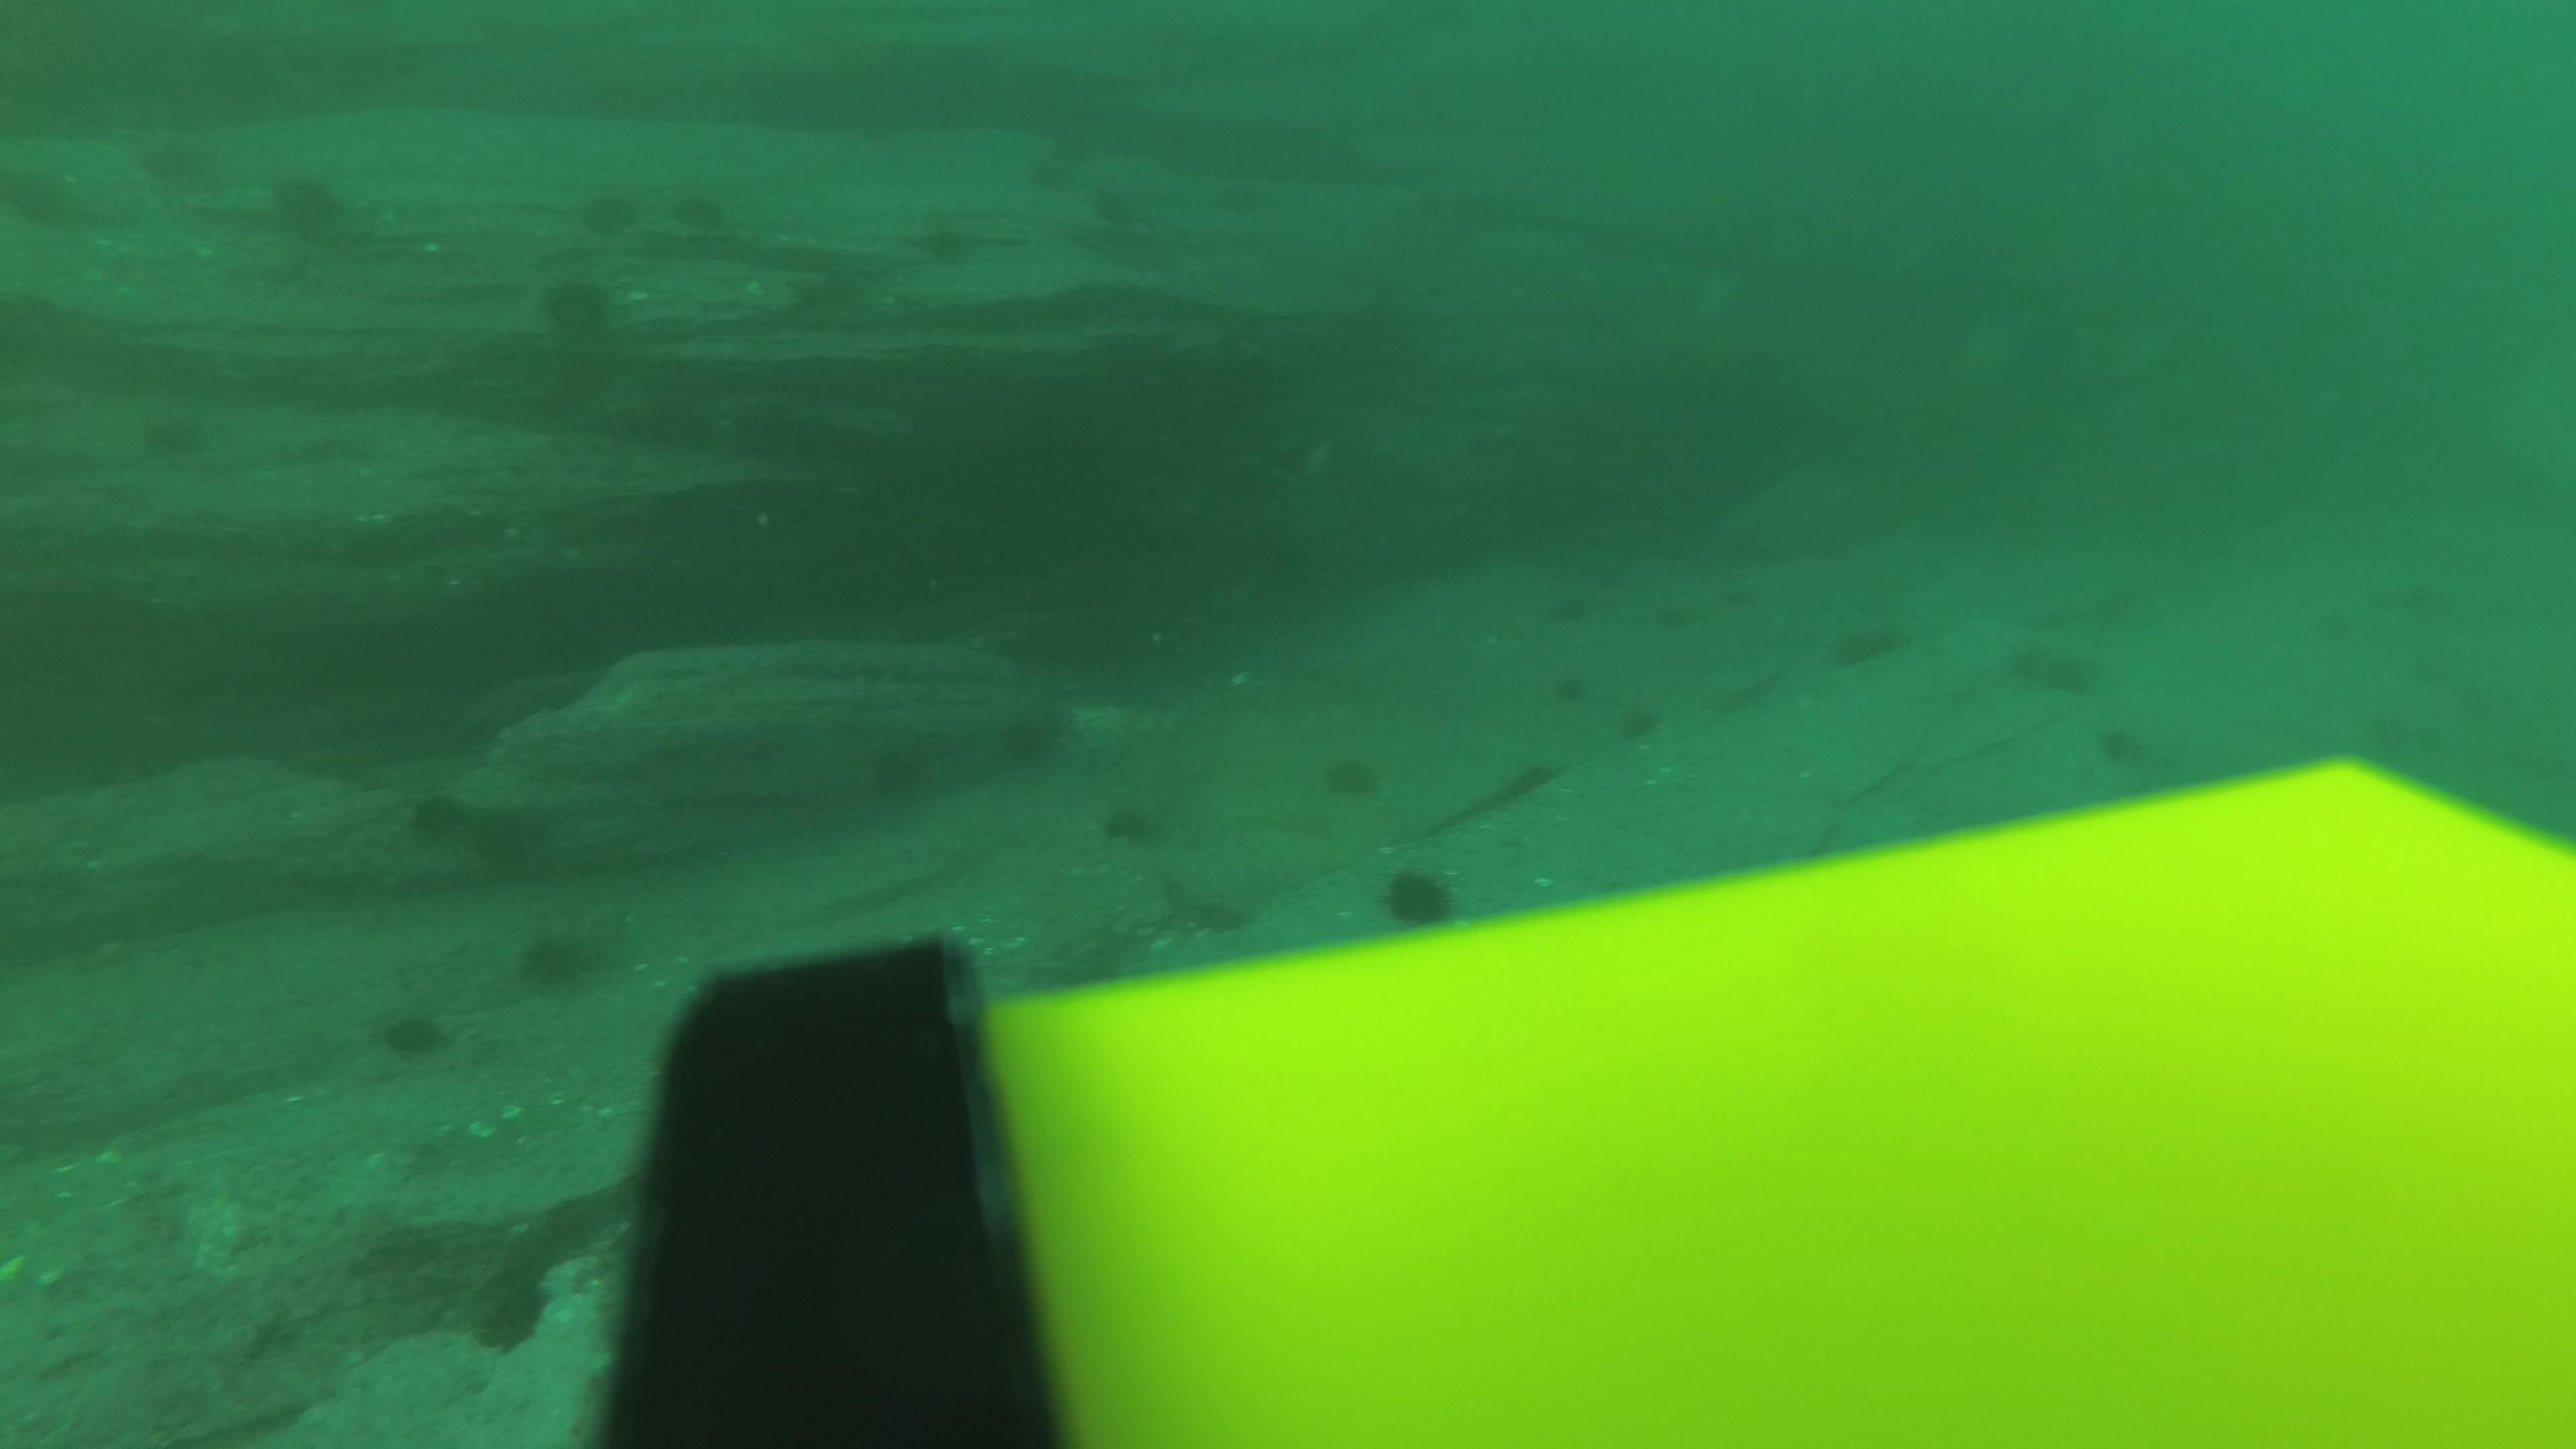echinus: (257, 163, 366, 253), (508, 916, 612, 1000), (531, 269, 626, 354), (1373, 858, 1467, 936), (856, 736, 941, 816), (989, 701, 1074, 777), (370, 1000, 456, 1067), (1826, 609, 1914, 674), (904, 207, 985, 274), (400, 786, 474, 853), (1316, 745, 1385, 805), (1095, 793, 1164, 853), (573, 180, 642, 241), (667, 180, 734, 239), (2043, 653, 2102, 702), (1997, 633, 2054, 683), (1614, 695, 1667, 747), (1205, 179, 1254, 216), (1019, 152, 1069, 189), (1040, 129, 1090, 166), (1146, 145, 1196, 182), (138, 138, 188, 175), (1090, 186, 1138, 223), (147, 416, 195, 453), (1550, 672, 1596, 708), (1543, 594, 1589, 630), (1651, 600, 1697, 635), (1720, 582, 1766, 617), (2102, 725, 2148, 761), (2383, 717, 2429, 752), (2401, 582, 2447, 617), (2360, 580, 2406, 616), (2318, 609, 2364, 644)
